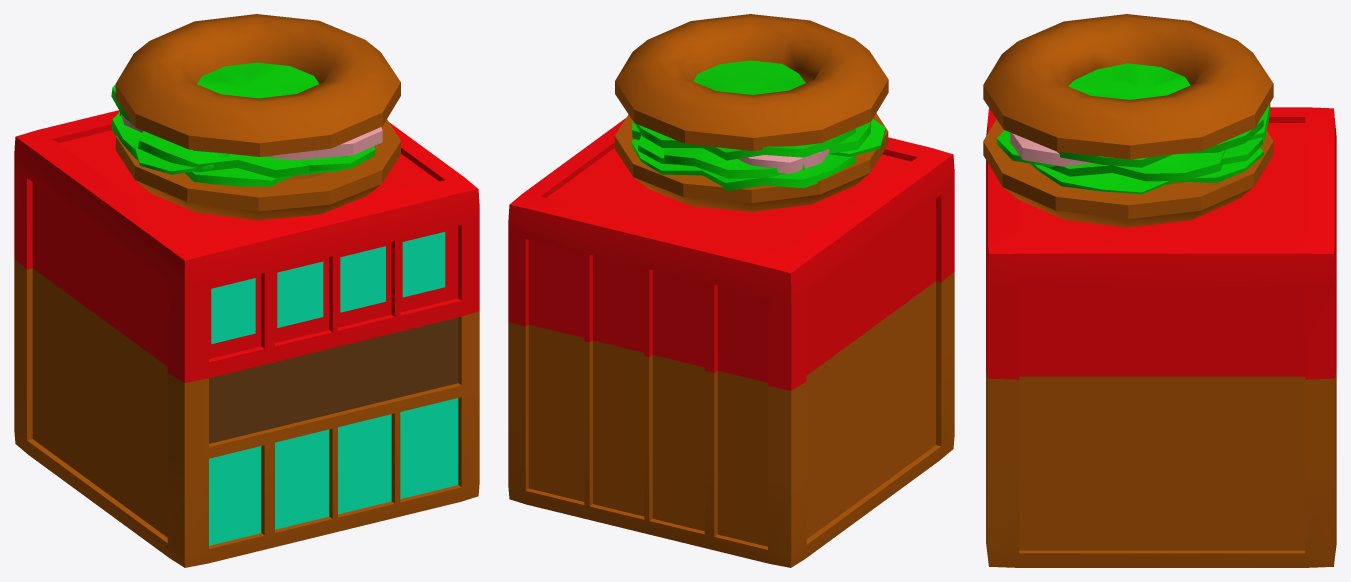
The model's file is MOD_RestauBaggle.FBX.
3 views of the same model, side by side, from view 1: azimuth 30°, elevation 25°; view 2: azimuth 150°, elevation 25°; view 3: azimuth 270°, elevation 25° (orthographic). The views are drawn at different scales.
Visible parts, largest first — view 1: Batiment_FF001, Object, Object005, Object007, Salade002, Salade, Object009, Tomate003, Tomate002; view 2: Batiment_FF001, Object, Object005, Object007, Salade, Salade002, Object009, Tomate003; view 3: Batiment_FF001, Object, Object005, Object007, Salade002, Salade, Object009, Tomate, Tomate002.
Boxes of the visible parts, x1,y1,x2,y2 form: Batiment_FF001: (14,110,479,567); Object: (115,14,400,156); Object005: (115,119,401,220); Object007: (111,62,318,156); Salade002: (119,112,347,177); Salade: (111,112,375,186); Object009: (119,111,382,160); Tomate003: (134,141,229,174); Tomate002: (300,146,375,171); Batiment_FF001: (508,118,954,567); Object: (615,14,888,151); Object005: (614,113,888,211); Object007: (635,60,855,160); Salade: (631,139,855,190); Salade002: (632,121,870,178); Object009: (738,149,829,173); Tomate003: (829,119,885,156); Batiment_FF001: (986,107,1336,567); Object: (983,14,1273,159); Object005: (983,119,1273,227); Object007: (1057,63,1263,167); Salade002: (1044,103,1270,181); Salade: (1030,148,1263,194); Object009: (1010,132,1092,166); Tomate: (1222,137,1262,164); Tomate002: (997,130,1055,166).
Bounding box in the file's own units: 31.2 × 42.46 × 31.45.
